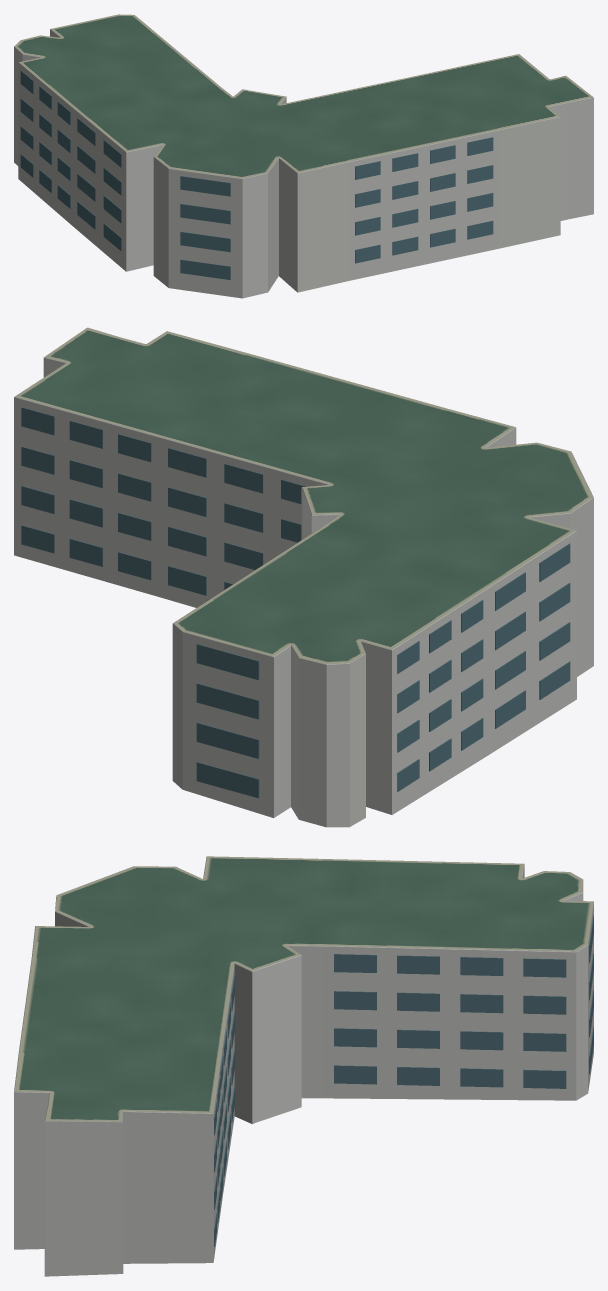
The model's file is intact.glb.
3 renders of one model, top to bottom at view 1: azimuth 30°, elevation 25°; view 2: azimuth 150°, elevation 25°; view 3: azimuth 270°, elevation 25°, orthographic. The views are drawn at different scales.
Visible parts, largest first — view 1: SM_dorm-a_Intact_00, SM_dorm-a_Intact_01; view 2: SM_dorm-a_Intact_00, SM_dorm-a_Intact_01; view 3: SM_dorm-a_Intact_00, SM_dorm-a_Intact_01.
Part boxes in pixels (x1=…): SM_dorm-a_Intact_00: x1=14, y1=14, x2=593, y2=298; SM_dorm-a_Intact_01: x1=20, y1=70, x2=493, y2=279; SM_dorm-a_Intact_00: x1=14, y1=327, x2=593, y2=827; SM_dorm-a_Intact_01: x1=21, y1=407, x2=570, y2=798; SM_dorm-a_Intact_00: x1=14, y1=856, x2=593, y2=1276; SM_dorm-a_Intact_01: x1=214, y1=915, x2=593, y2=1246.
Bounding box in the file's own units: 2.2 × 0.6158 × 2.03.
Materials: 4 (1 with a texture image).
